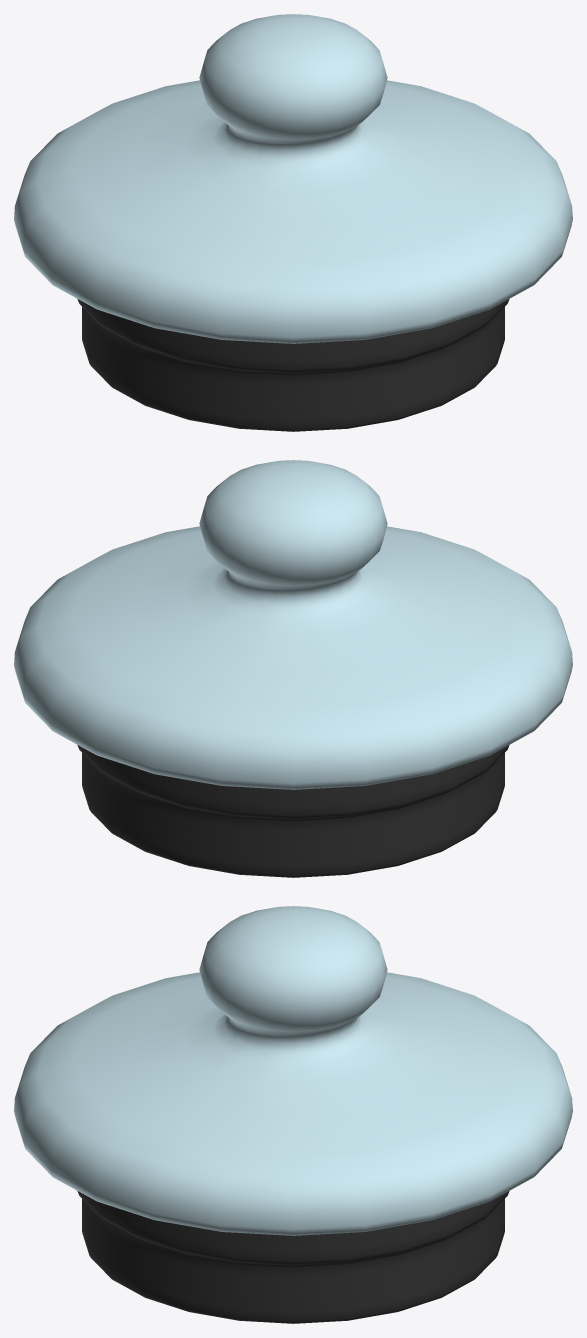
The model's file is VP_Kitchen_Jar_1_Lid.FBX.
3 views of the same model, one above another, from view 1: azimuth 30°, elevation 25°; view 2: azimuth 150°, elevation 25°; view 3: azimuth 270°, elevation 25° (orthographic).
Parts seen in each view (by area): view 1: VP_Kitchen_Jar_1_Lid; view 2: VP_Kitchen_Jar_1_Lid; view 3: VP_Kitchen_Jar_1_Lid.
Part boxes in pixels (left/top/right/bottom): VP_Kitchen_Jar_1_Lid: left=14, top=14, right=572, bottom=431; VP_Kitchen_Jar_1_Lid: left=14, top=460, right=572, bottom=877; VP_Kitchen_Jar_1_Lid: left=14, top=906, right=572, bottom=1323.
Size of what is drawn, in the model's own units: 10.21 by 10.21 by 6.35.
